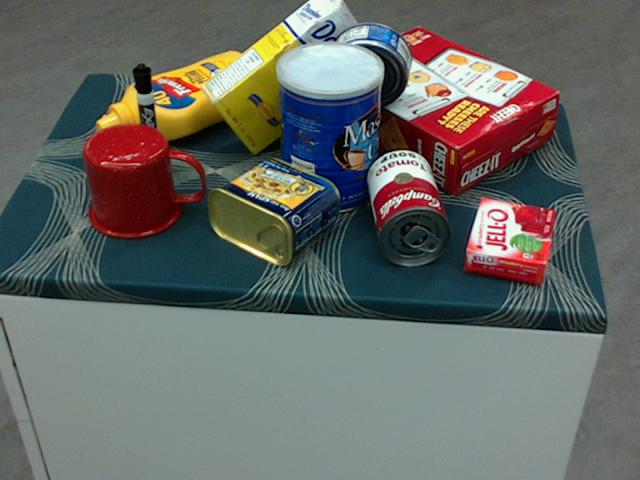cracker_box: (317, 25, 557, 196)
gelatin_box: (464, 197, 553, 282)
large_marker: (131, 64, 164, 171)
master_chef_can: (275, 42, 382, 215)
mug: (83, 122, 204, 239)
mustard_bottle: (95, 51, 267, 141)
potted_meat_can: (205, 157, 339, 265)
sugar_box: (198, 0, 378, 156)
tomato_soup_can: (367, 148, 449, 265)
tuna_fish_can: (327, 21, 411, 106)
